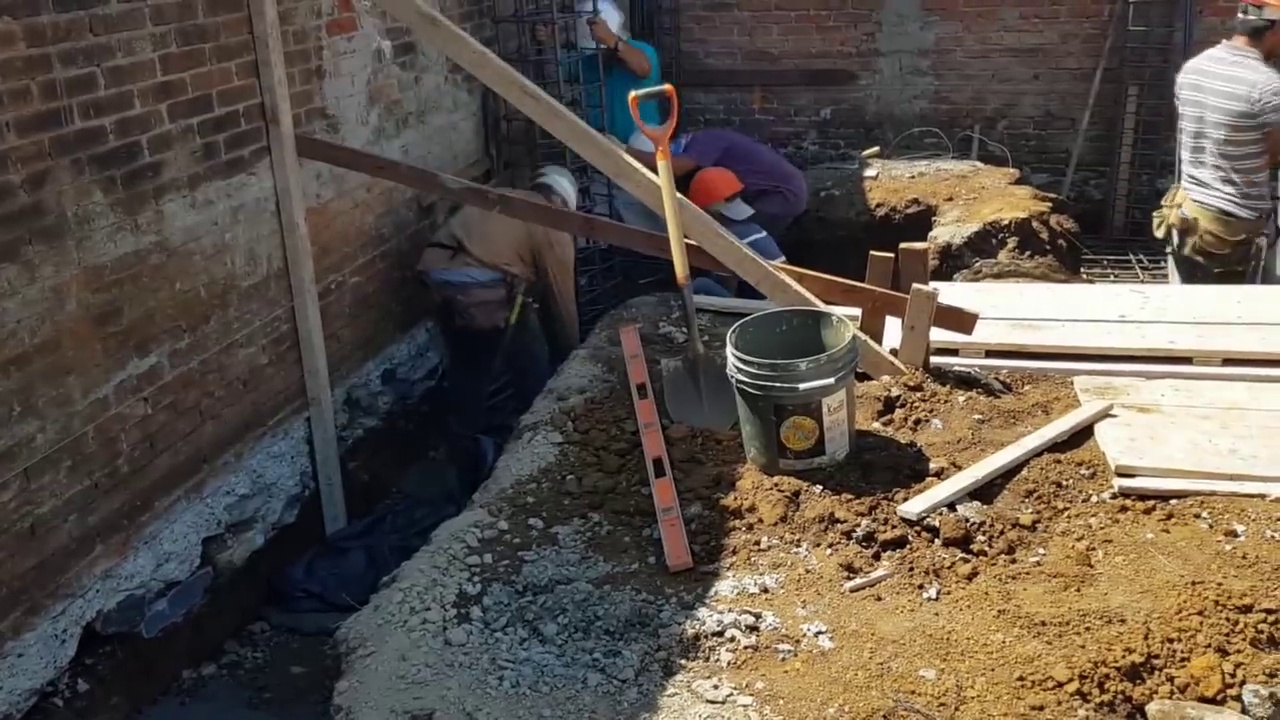helmet: (679, 164, 748, 210), (538, 162, 577, 210)
helmet-off: (575, 6, 622, 57), (1227, 9, 1279, 47)
helmet-on: (680, 164, 791, 305), (679, 164, 760, 227), (528, 162, 579, 210)
person: (420, 162, 585, 481), (1178, 0, 1280, 285), (563, 0, 670, 216), (629, 116, 805, 238)
